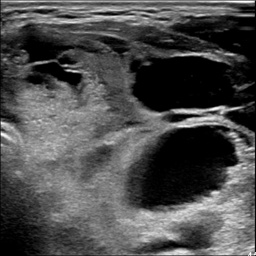mass: (15, 26, 248, 223)
